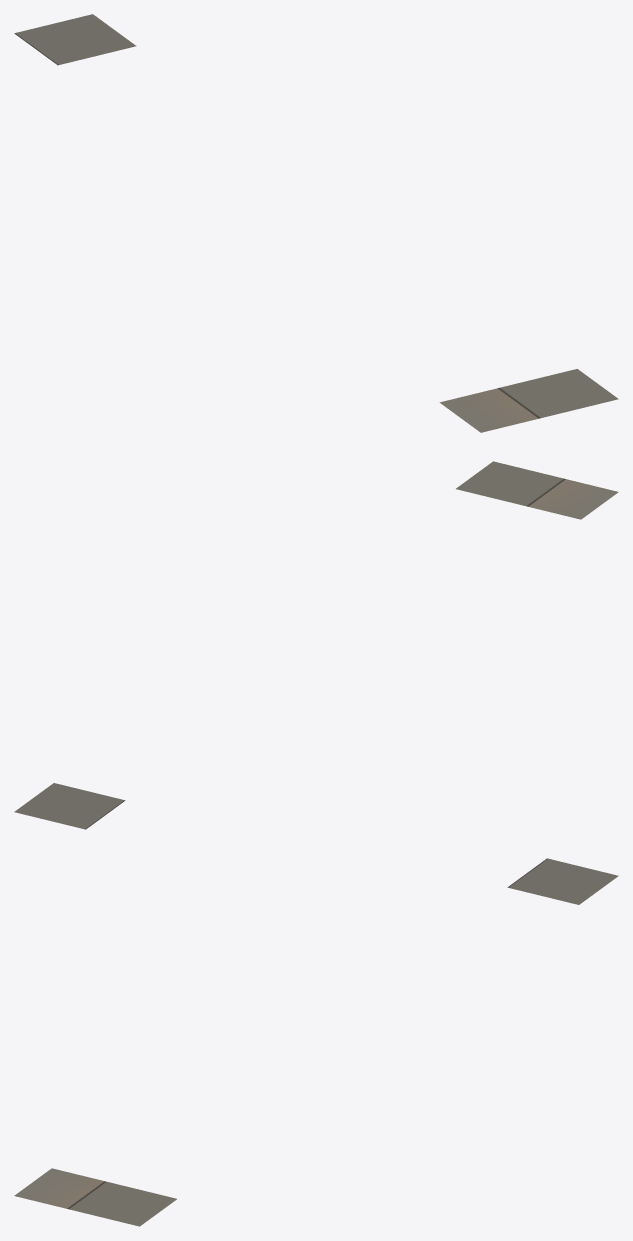
The model's file is quartel-circulation-v001.glb.
3 renders of one model, top to bottom at view 1: azimuth 30°, elevation 25°; view 2: azimuth 150°, elevation 25°; view 3: azimuth 330°, elevation 25°, orthographic. The views are drawn at different scales.
Visible parts, largest first — view 1: QuartelCirculation; view 2: QuartelCirculation; view 3: QuartelCirculation.
Part boxes in pixels (left/top/right/bottom): QuartelCirculation: left=14, top=14, right=618, bottom=432; QuartelCirculation: left=14, top=461, right=618, bottom=829; QuartelCirculation: left=14, top=858, right=618, bottom=1226.
Bounding box in the file's own units: 1.75 × 0 × 11.55.
